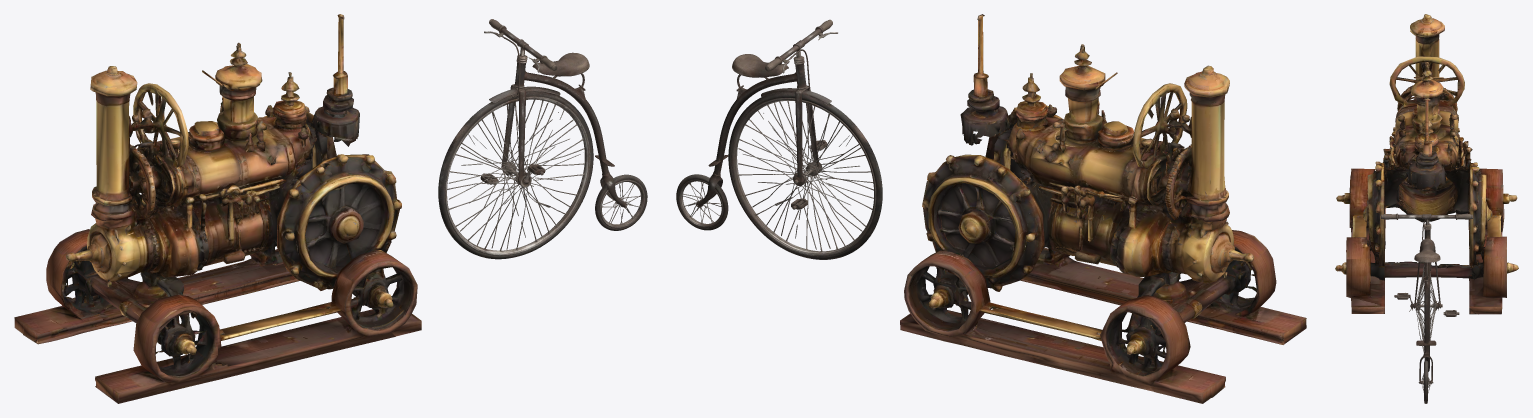
The model's file is VEI_C.glb.
The picture shows the model from 3 angles, left to right: view 1: azimuth 30°, elevation 25°; view 2: azimuth 150°, elevation 25°; view 3: azimuth 270°, elevation 25°; orthographic projection. The views are drawn at different scales.
Parts seen in each view (by area): view 1: V27, V04; view 2: V27, V04; view 3: V27, V04.
Boxes of the visible parts, x1,y1,x2,y2 form: V27: (14,14,421,403); V04: (438,19,647,259); V27: (900,14,1306,403); V04: (676,19,882,259); V27: (1335,14,1518,314); V04: (1381,213,1472,403).
Bounding box in the file's own units: 4.2 × 2 × 1.59.
2 materials, 2 textured.
